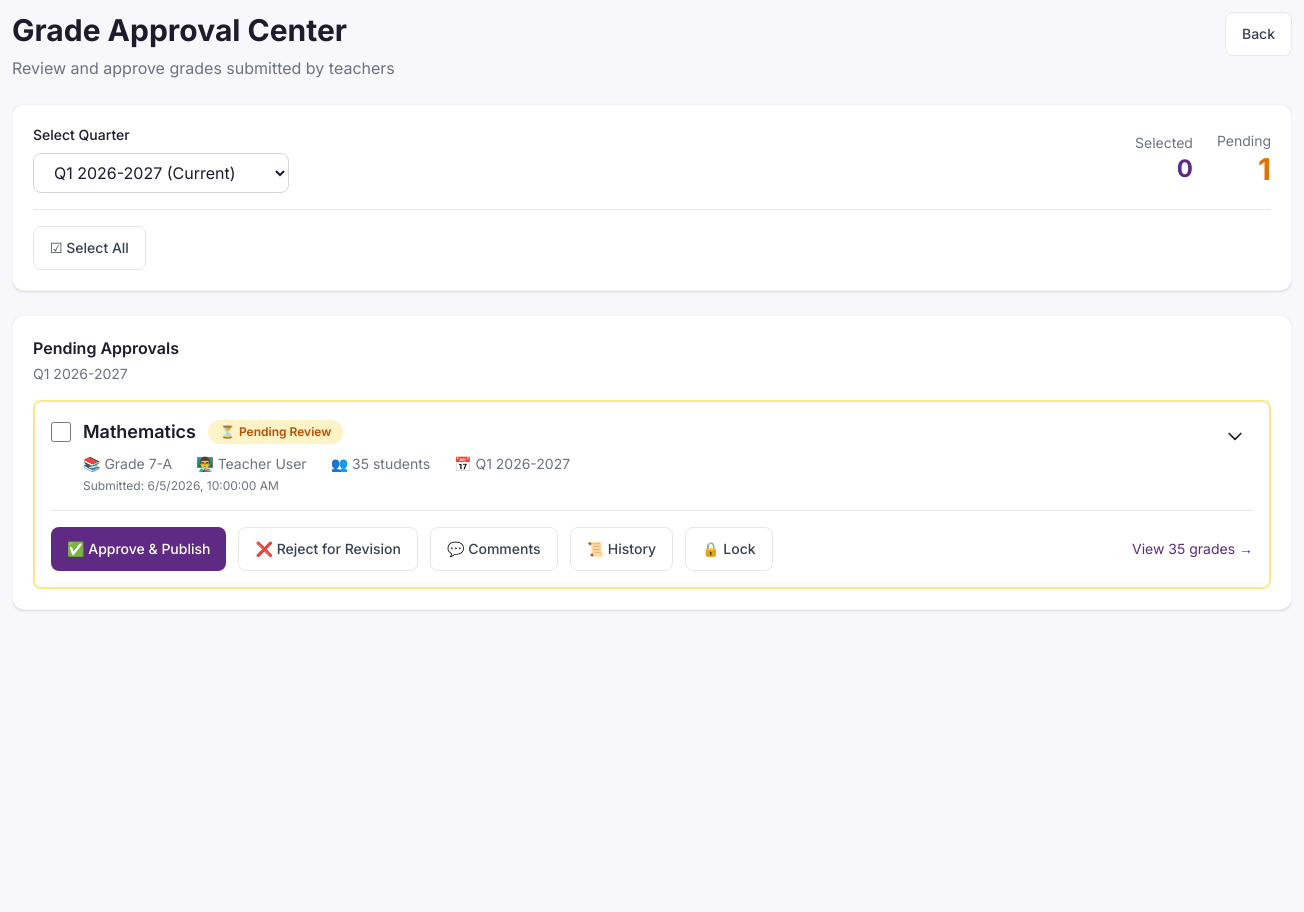
Test case: Grade Approval Error Handling › handles already published error
Check: the heading "Mathematics" is shown, box left=83, top=418, right=196, bottom=446
Step 1. Click the button "✅ Approve & Publish" → x=139, y=549, box left=51, top=527, right=226, bottom=571
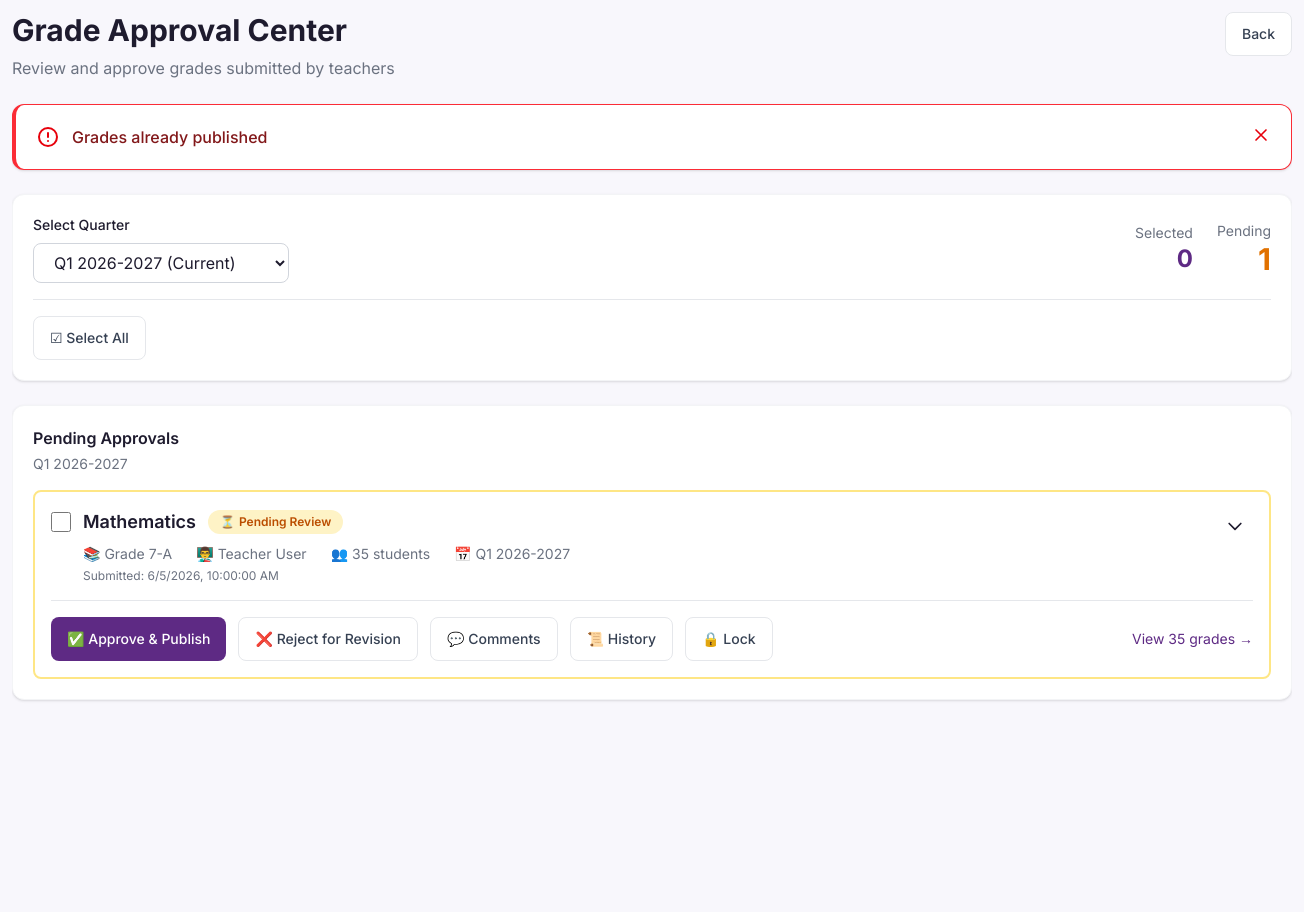
Check: the text "Grades already published" is shown, box left=72, top=127, right=267, bottom=147
